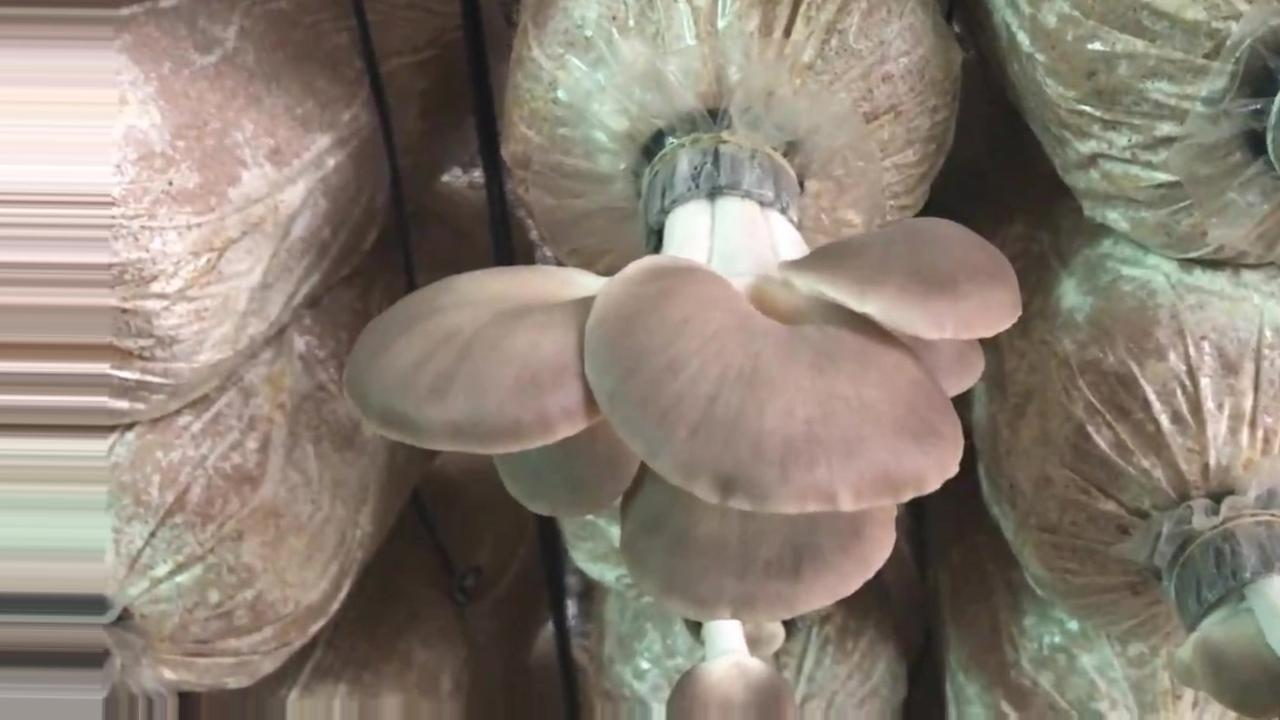nam: (348, 142, 1021, 624), (1174, 520, 1280, 714), (669, 618, 798, 720)
